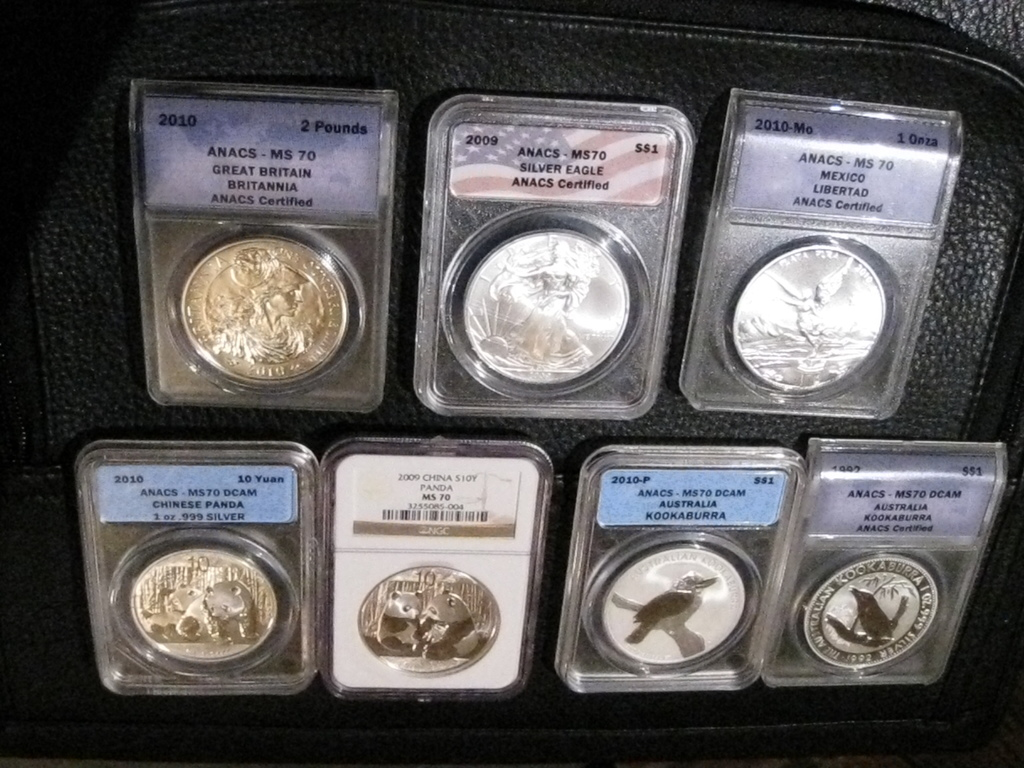Coin: (466, 229, 633, 390), (180, 231, 348, 388), (729, 243, 887, 392), (596, 543, 743, 670), (129, 545, 280, 665), (357, 567, 498, 677), (801, 555, 937, 668)
